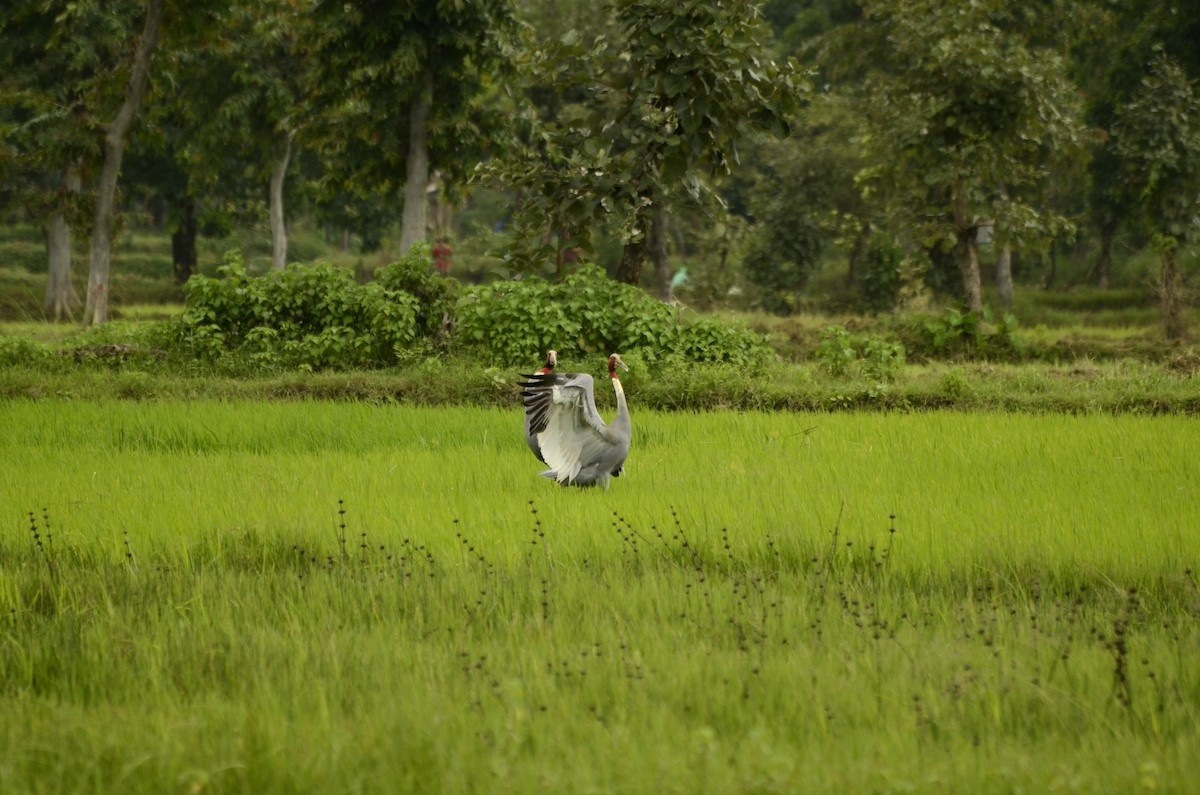crane: (529, 346, 646, 500)
